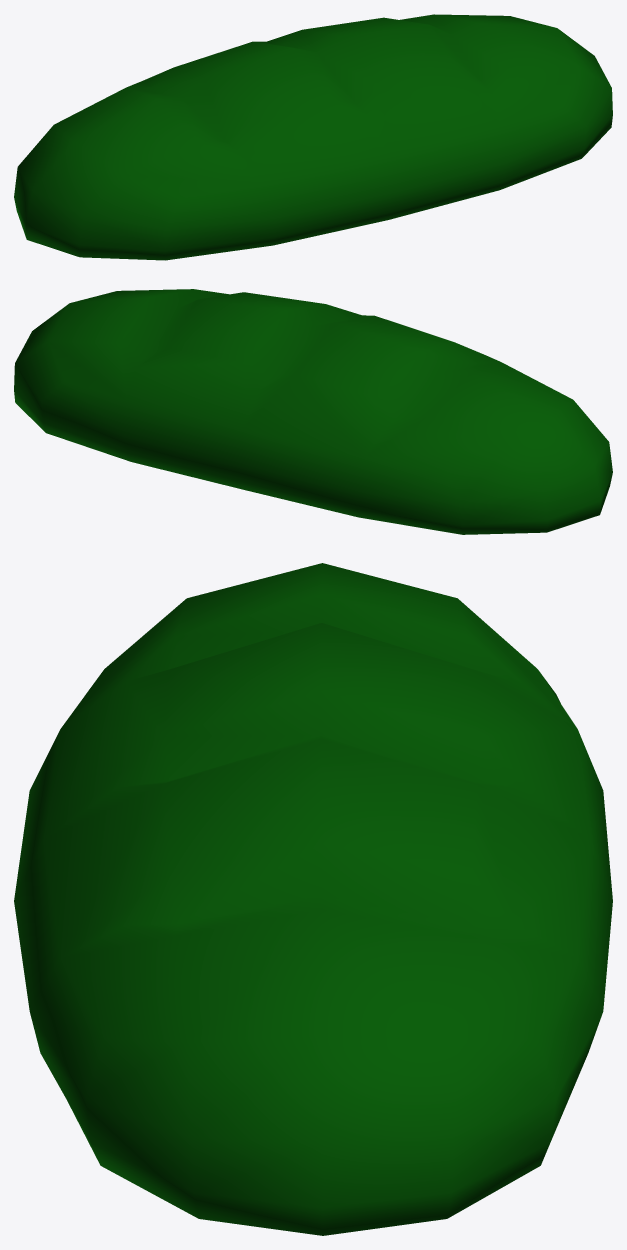
Rendered from bread02.FBX.
The picture shows the model from 3 angles, top to bottom: view 1: azimuth 30°, elevation 25°; view 2: azimuth 150°, elevation 25°; view 3: azimuth 270°, elevation 25°; orthographic projection. The views are drawn at different scales.
Parts seen in each view (by area): view 1: SM_bread02_0; view 2: SM_bread02_0; view 3: SM_bread02_0.
Part boxes in pixels (x1,y1,x2,y2): SM_bread02_0: (14,14,612,260); SM_bread02_0: (14,289,612,534); SM_bread02_0: (14,563,612,1235).
Bounding box in the file's own units: 49.75 × 22.91 × 11.02.
